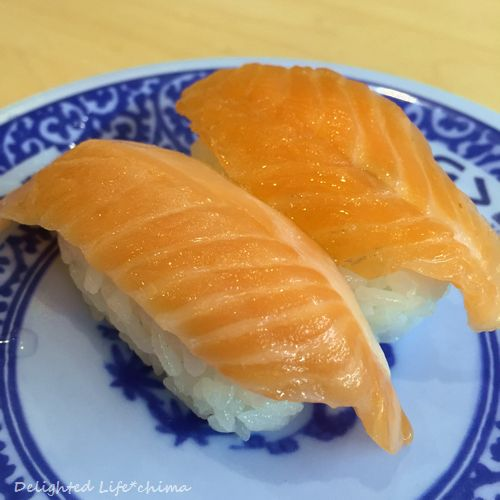salmon: (14, 143, 389, 449), (179, 60, 500, 328)
